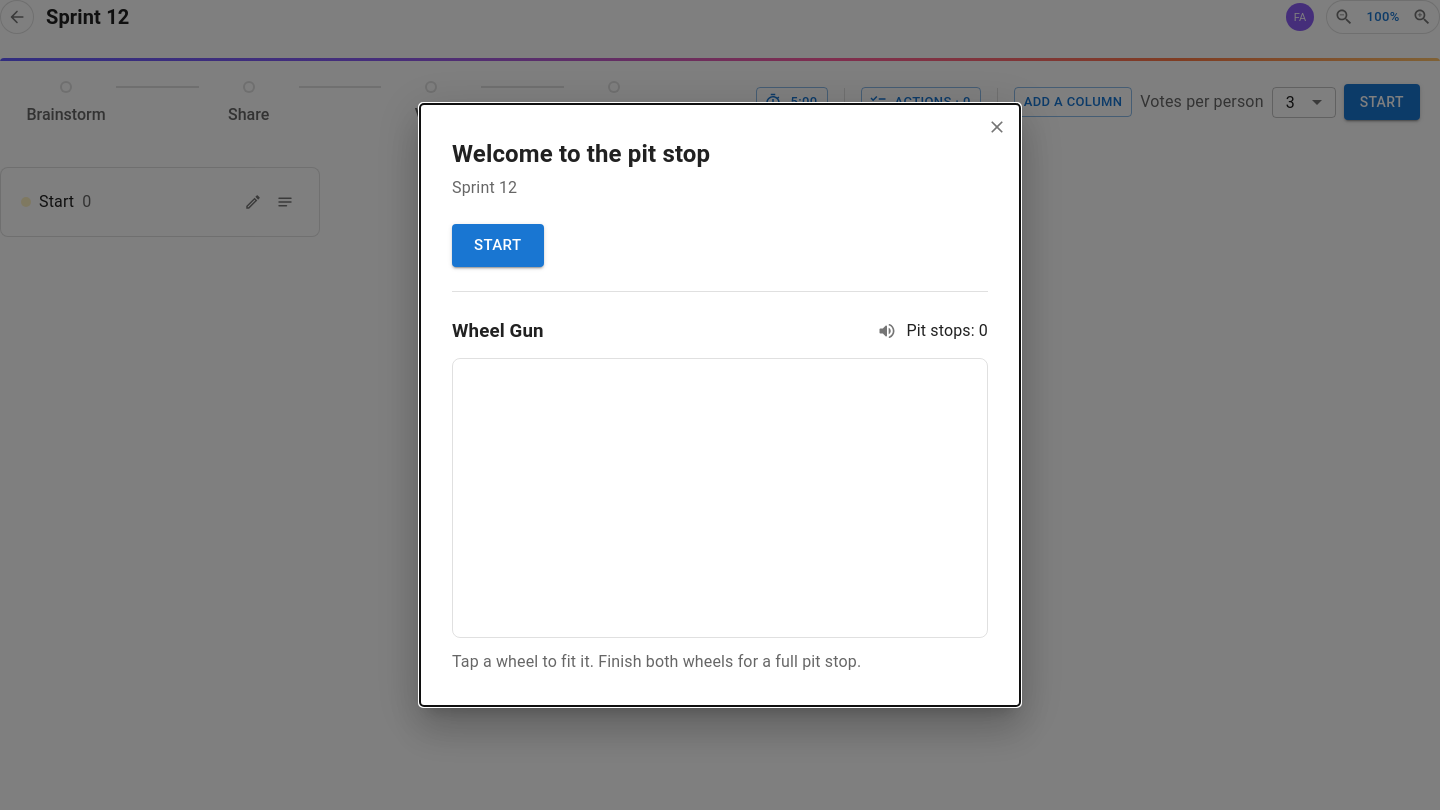
Test: RetroPage in the waiting room › lets the facilitator close the waiting room, and reopen it from the toolbar
Click the button named "Close".
click(997, 127)  # box [982,112,1012,142]
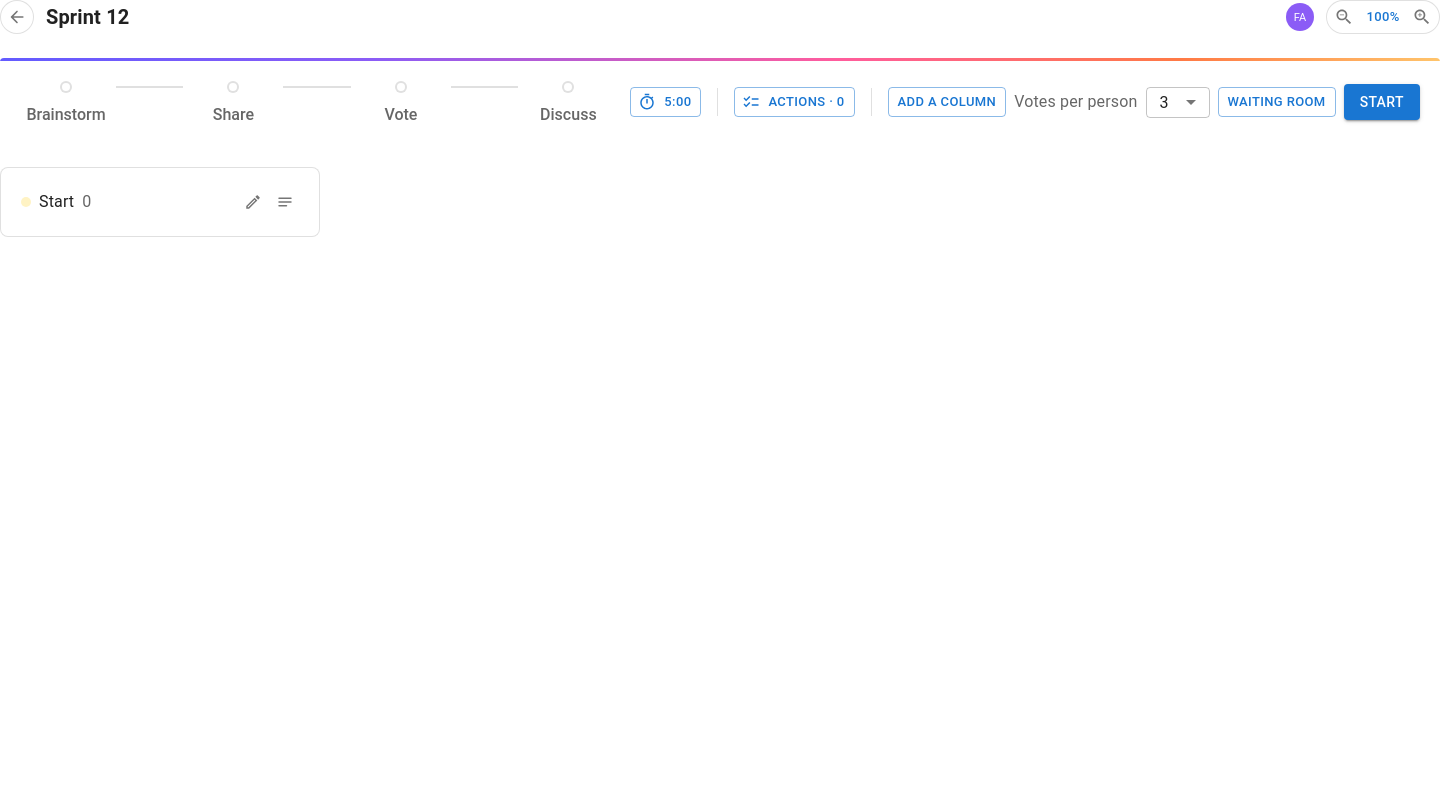
Check: the button named "rename" is shown, box [239,188,267,216]
Check: the dialog is gone
Click the button "Waiting room".
click(1277, 102)  # box [1218,87,1336,117]
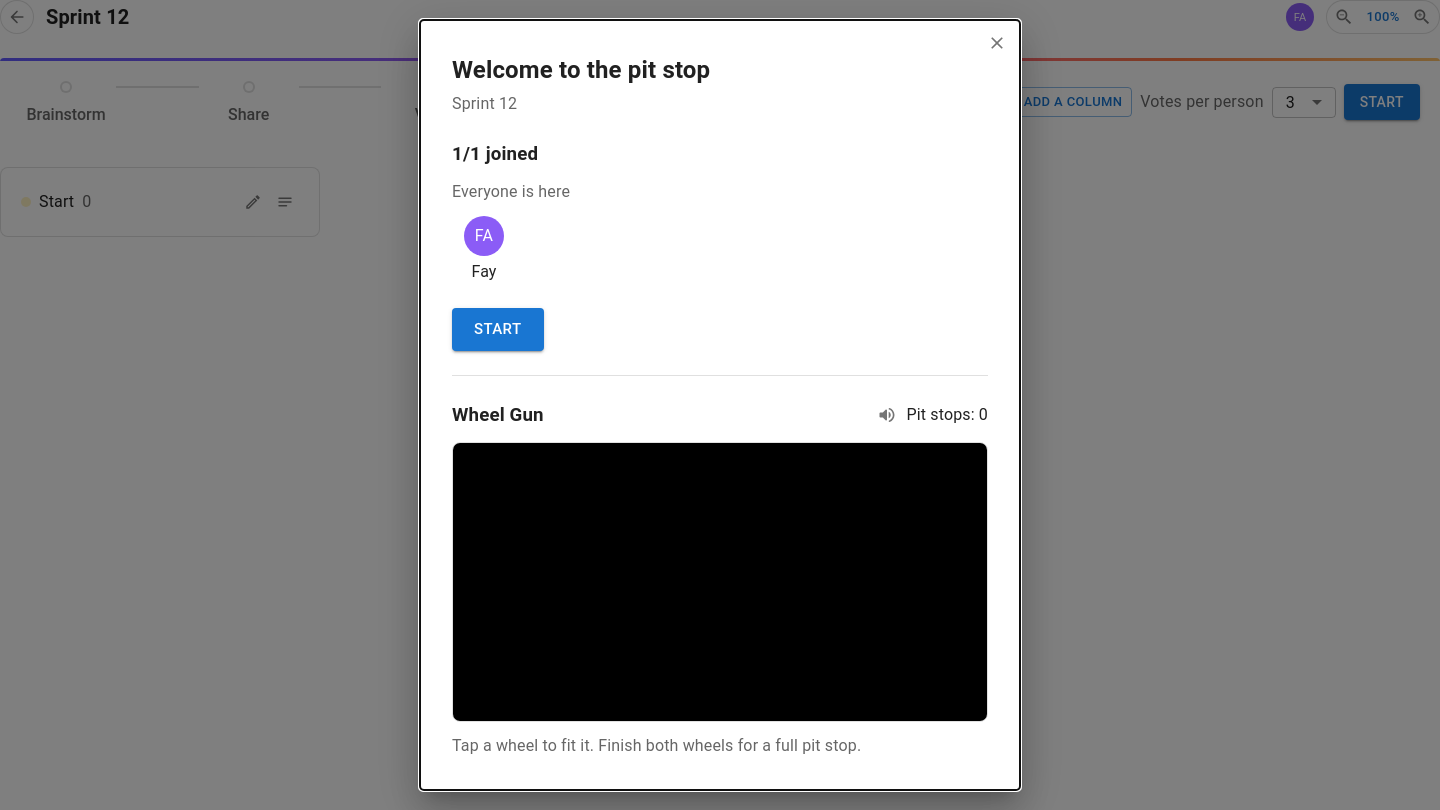
Check: the dialog "Welcome to the pit stop" is shown, box [420,20,1020,790]
